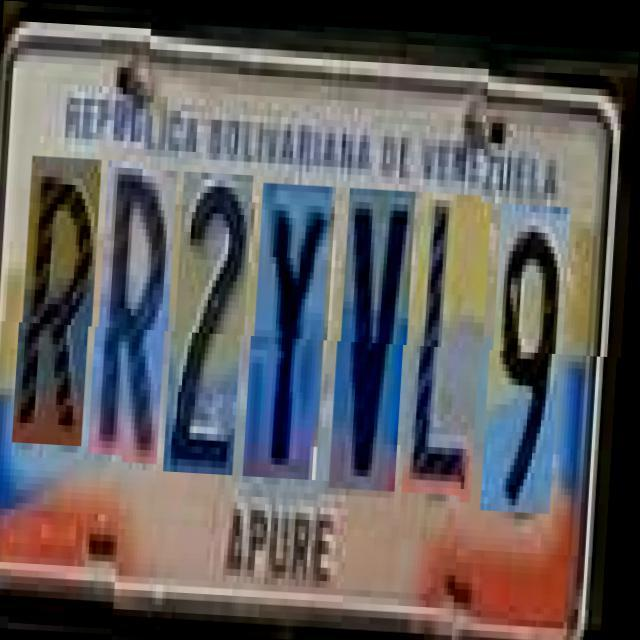2: (172, 169, 255, 472)
9: (490, 190, 573, 500)
L: (411, 187, 494, 490)
R: (96, 165, 179, 462), (21, 162, 103, 452)
V: (338, 184, 418, 486)
Y: (252, 179, 338, 476)
